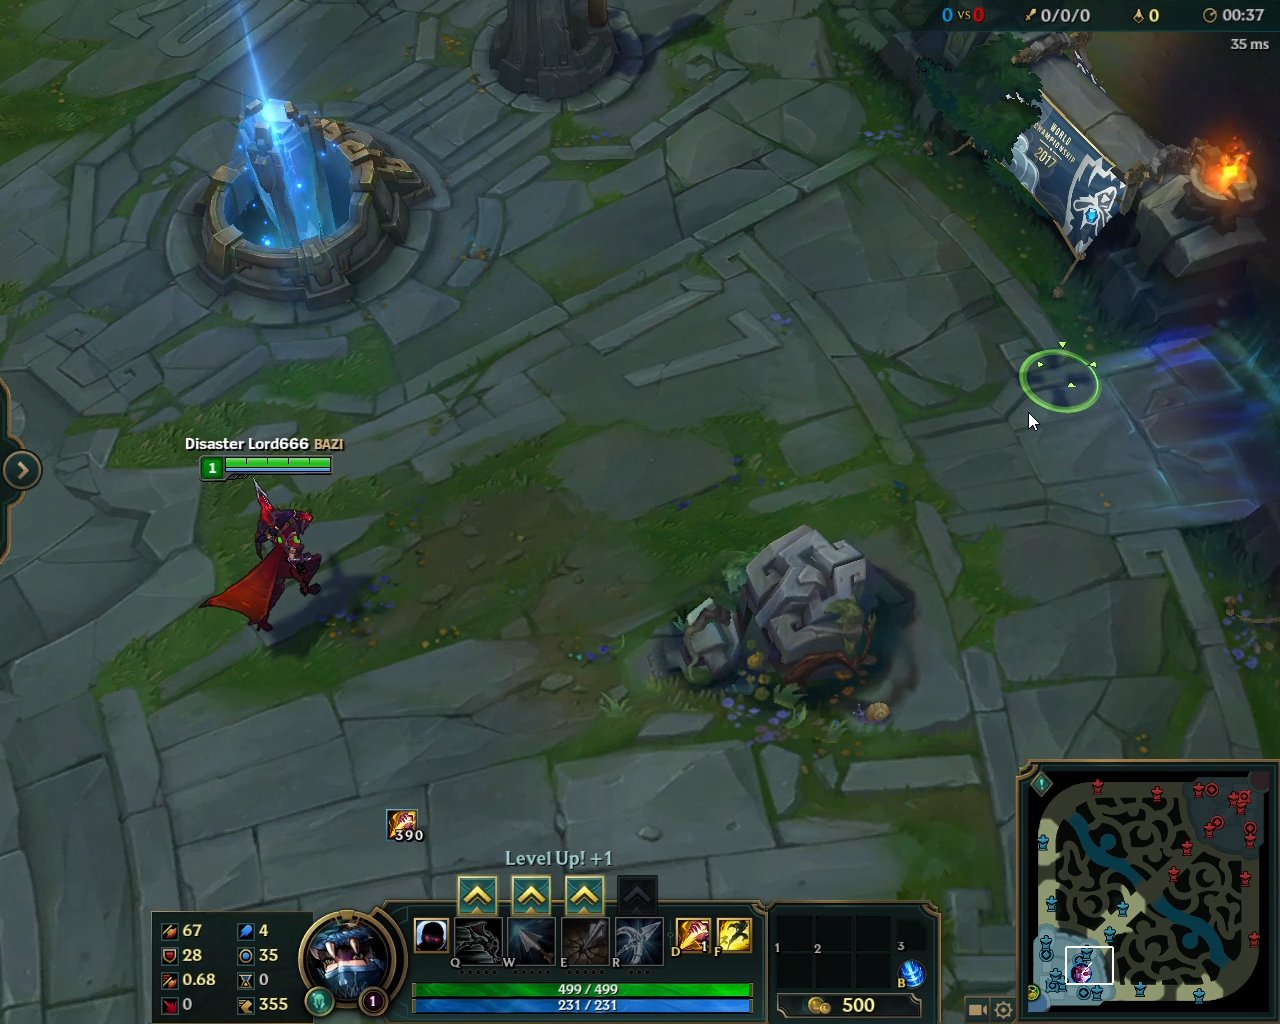Vayne: (197, 481, 329, 638)
